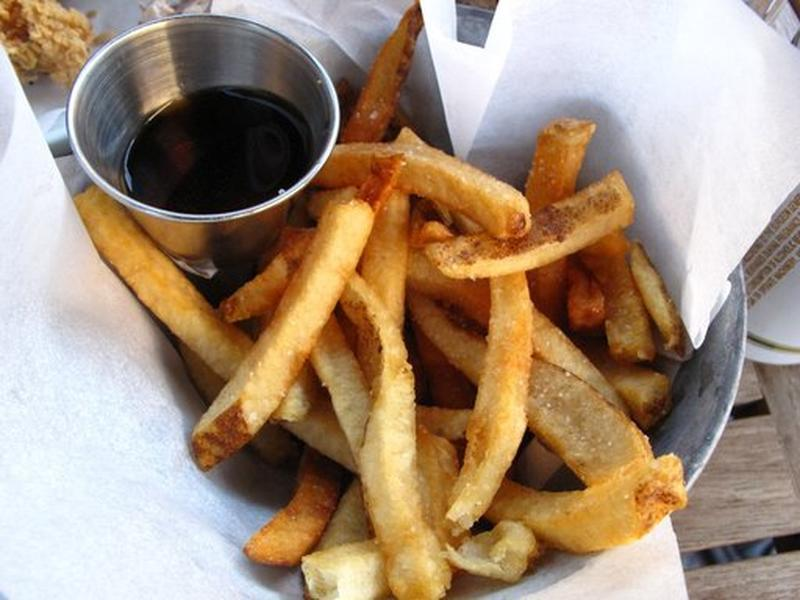french_fries: (68, 41, 650, 600)
